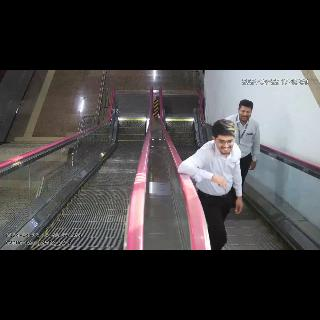normal: (176, 114, 240, 250), (226, 97, 260, 195)
